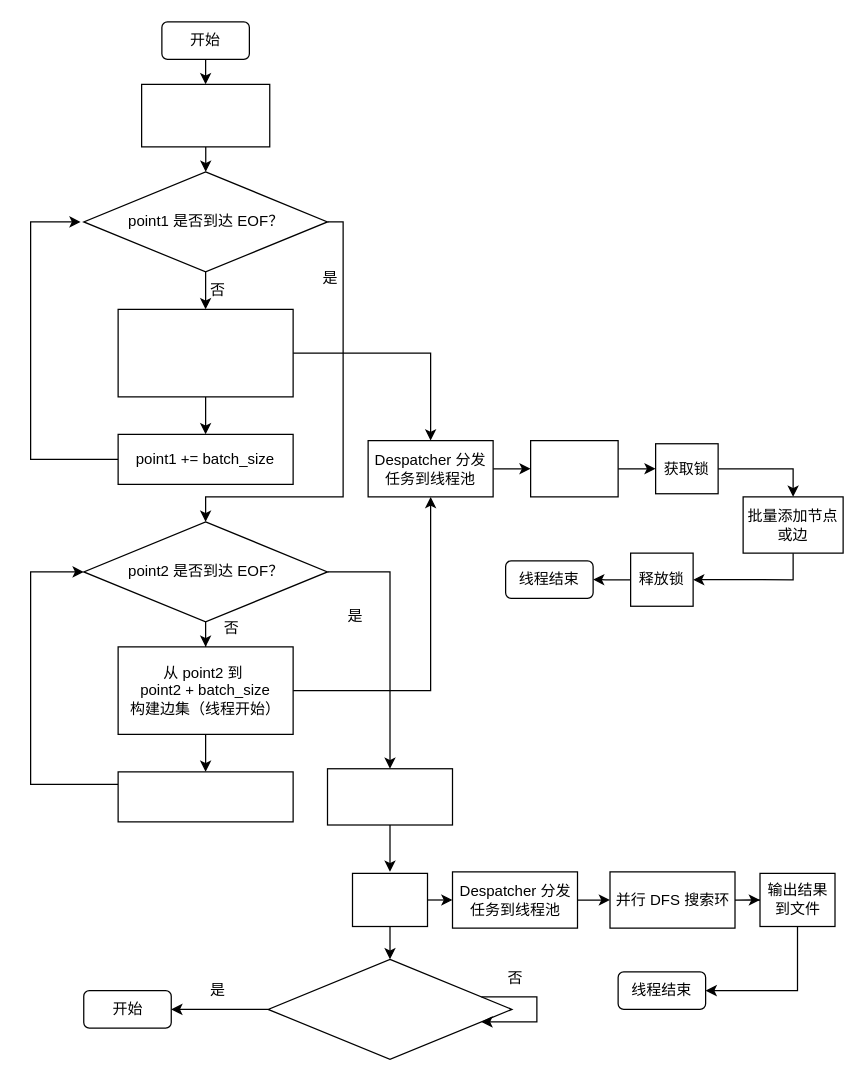
This 865x1081 diagram has some shape labels left out. The shapes that lost their labels are listed below. From the top down, each one's centre as x and y in pixels, then its label:
At (x=205, y=115): "创建线程池 参数初始化".
At (x=205, y=352): "从 point1 到 point1 + batch_size 构建点集（线程开始）".
At (x=573, y=468): "字符格式化".
At (x=205, y=796): "point2 += batch_size".
At (x=389, y=796): "遍历图 G 的所有顶点".
At (x=389, y=899): "线程开始".
At (x=389, y=1008): "所有线程是否结束？".
